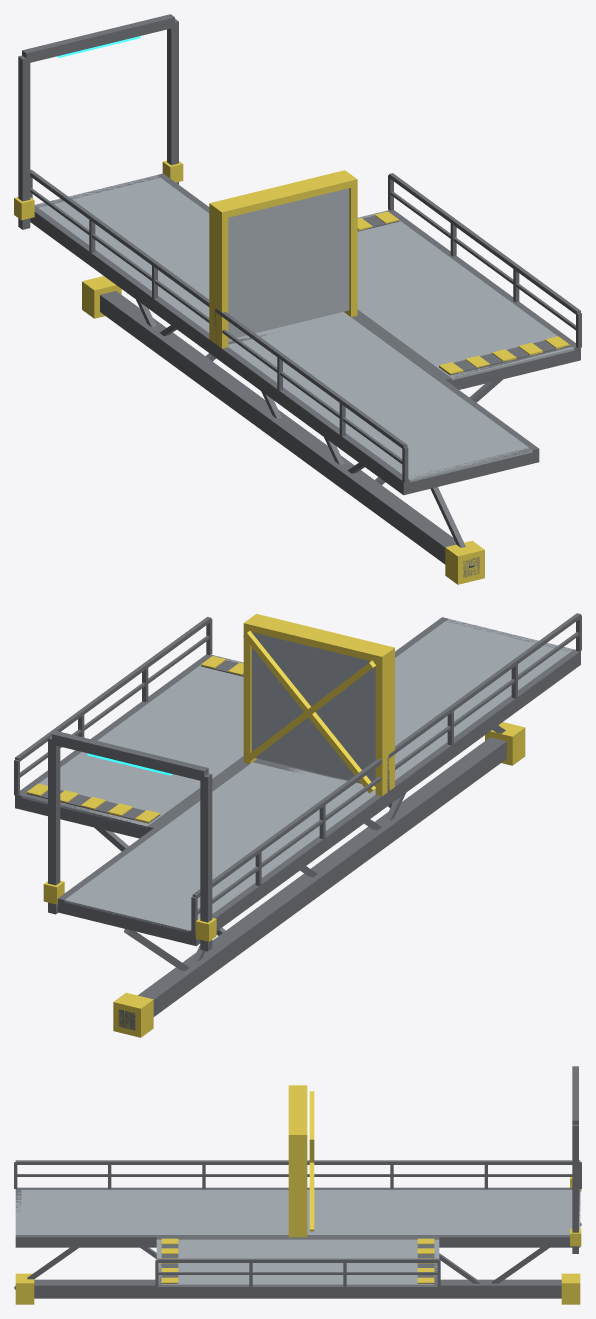
The model's file is scaffold_laser_choke.glb.
The picture shows the model from 3 angles, top to bottom: view 1: azimuth 30°, elevation 25°; view 2: azimuth 150°, elevation 25°; view 3: azimuth 270°, elevation 25°; orthographic projection. The views are drawn at different scales.
Visible parts, largest first — view 1: Deck_b, Deck_s, Dyn_Bulkhead, Deck_a, Spine, Frame_b_-1, Frame_a_-1, BulkheadJamb_-1, BulkheadLintel, PortalLintel, PortalPost_-1, Header_b_1 (+14 smaller); view 2: Deck_a, Deck_s, Dyn_Bulkhead, Deck_b, Spine, Frame_b_-1, Frame_a_-1, BulkheadJamb_-1, BulkheadLintel, PortalLintel, PortalPost_-1, PortalPost_1 (+18 smaller); view 3: Deck_b, Deck_a, Deck_s, Spine, Frame_s_1, Frame_b_1, BulkheadJamb_1, Frame_a_1, Rail_s_1, Rail_b_-1, Rail_a_-1, BulkheadLintel (+15 smaller).
Boxes of the visible parts, x1,y1,x2,y2 form: Deck_b: [228, 312, 532, 482]; Deck_s: [357, 211, 574, 380]; Dyn_Bulkhead: [228, 188, 349, 339]; Deck_a: [35, 175, 344, 340]; Spine: [100, 291, 479, 577]; Frame_b_-1: [215, 344, 409, 494]; Frame_a_-1: [30, 206, 211, 354]; BulkheadJamb_-1: [209, 201, 228, 348]; BulkheadLintel: [216, 171, 357, 217]; PortalLintel: [22, 14, 174, 62]; PortalPost_-1: [18, 55, 30, 229]; Header_b_1: [399, 446, 537, 494]; Deck_a: [64, 762, 375, 932]; Deck_s: [21, 655, 243, 828]; Dyn_Bulkhead: [251, 632, 375, 786]; Deck_b: [335, 619, 573, 784]; Spine: [118, 737, 506, 1030]; Frame_b_-1: [388, 649, 578, 804]; Frame_a_-1: [189, 794, 384, 945]; BulkheadJamb_-1: [375, 646, 394, 796]; BulkheadLintel: [244, 615, 394, 663]; PortalLintel: [52, 731, 208, 781]; PortalPost_-1: [200, 773, 212, 951]; PortalPost_1: [48, 736, 60, 914]; Deck_b: [15, 1190, 288, 1234]; Deck_a: [307, 1190, 580, 1234]; Deck_s: [156, 1239, 439, 1284]; Spine: [34, 1279, 561, 1298]; Frame_s_1: [156, 1284, 434, 1297]; Frame_b_1: [15, 1235, 288, 1247]; BulkheadJamb_1: [288, 1132, 307, 1237]; Frame_a_1: [307, 1235, 572, 1247]; Rail_s_1: [156, 1258, 439, 1262]; Rail_b_-1: [15, 1160, 288, 1164]; Rail_a_-1: [307, 1160, 580, 1164]; BulkheadLintel: [288, 1087, 307, 1132].
Size of the model in its own units: 5.24 by 4.84 by 12.07.
